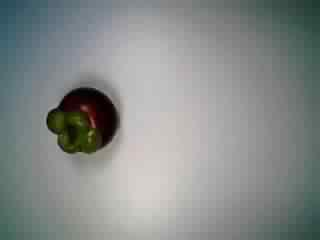mangosteen: (43, 83, 122, 160)
